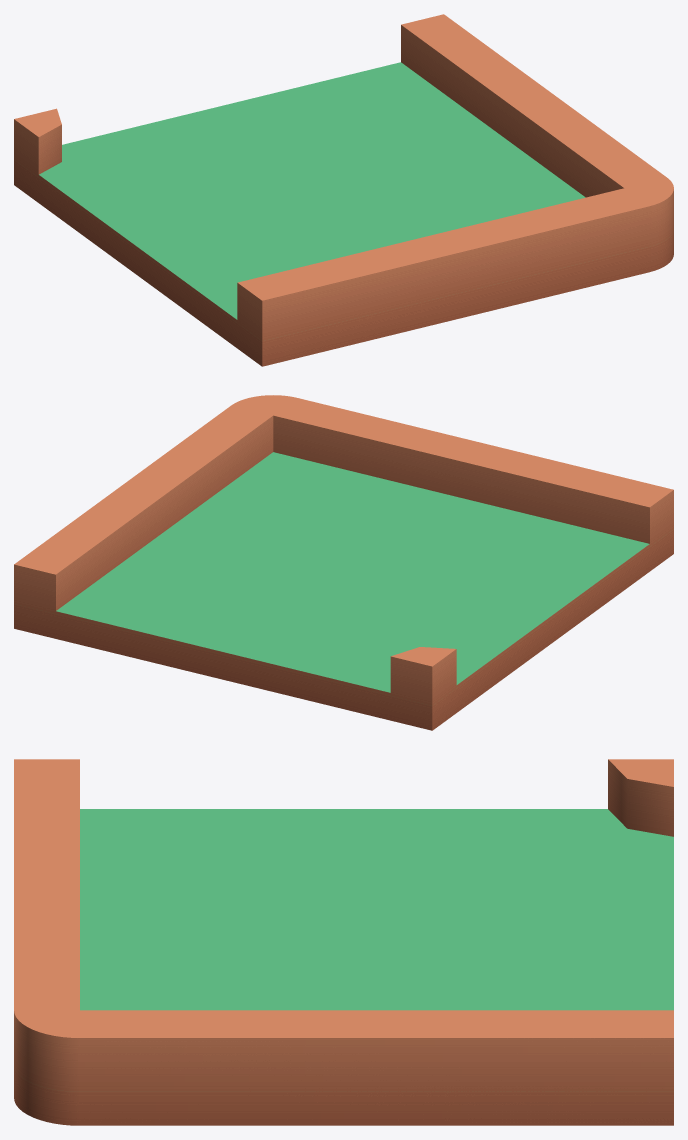
Rendered from square_corner_a.glb.
The picture shows the model from 3 angles, top to bottom: view 1: azimuth 30°, elevation 25°; view 2: azimuth 150°, elevation 25°; view 3: azimuth 270°, elevation 25°; orthographic projection. The views are drawn at different scales.
Visible parts, largest first — view 1: square-corner-a; view 2: square-corner-a; view 3: square-corner-a.
Boxes of the visible parts, x1,y1,x2,y2 form: square-corner-a: [14, 14, 673, 366]; square-corner-a: [14, 395, 673, 730]; square-corner-a: [14, 759, 673, 1125].
Size of the model in its own units: 0.9999 by 0.1467 by 0.9999.
Materials: 1 (1 with a texture image).
